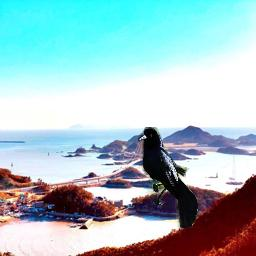Crow: (138, 127, 198, 228)
